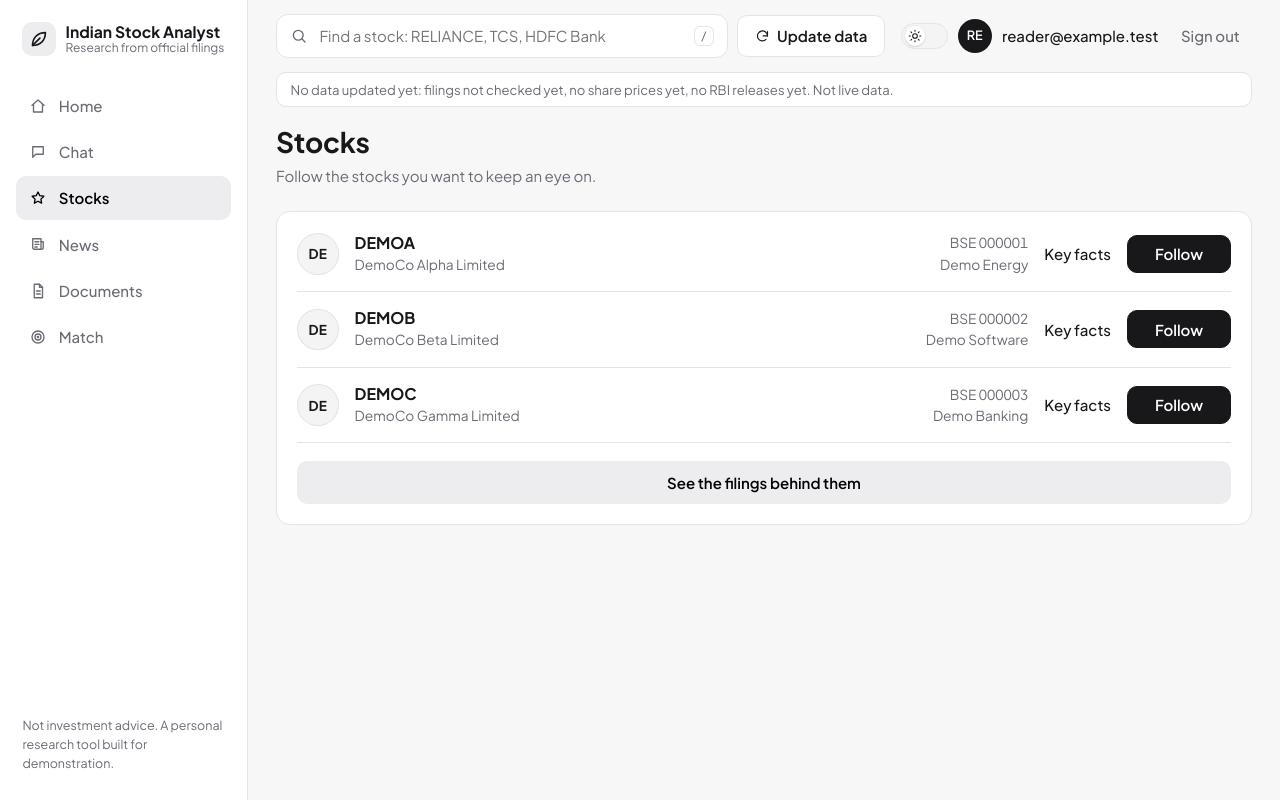
Scenario: following › disables the button while the request is in flight, so a double click sends one PUT
This screenshot has width=1280, height=800.
Click the button with aria-label "Follow DEMOA".
click(1179, 254)  # box [1127,235,1231,273]
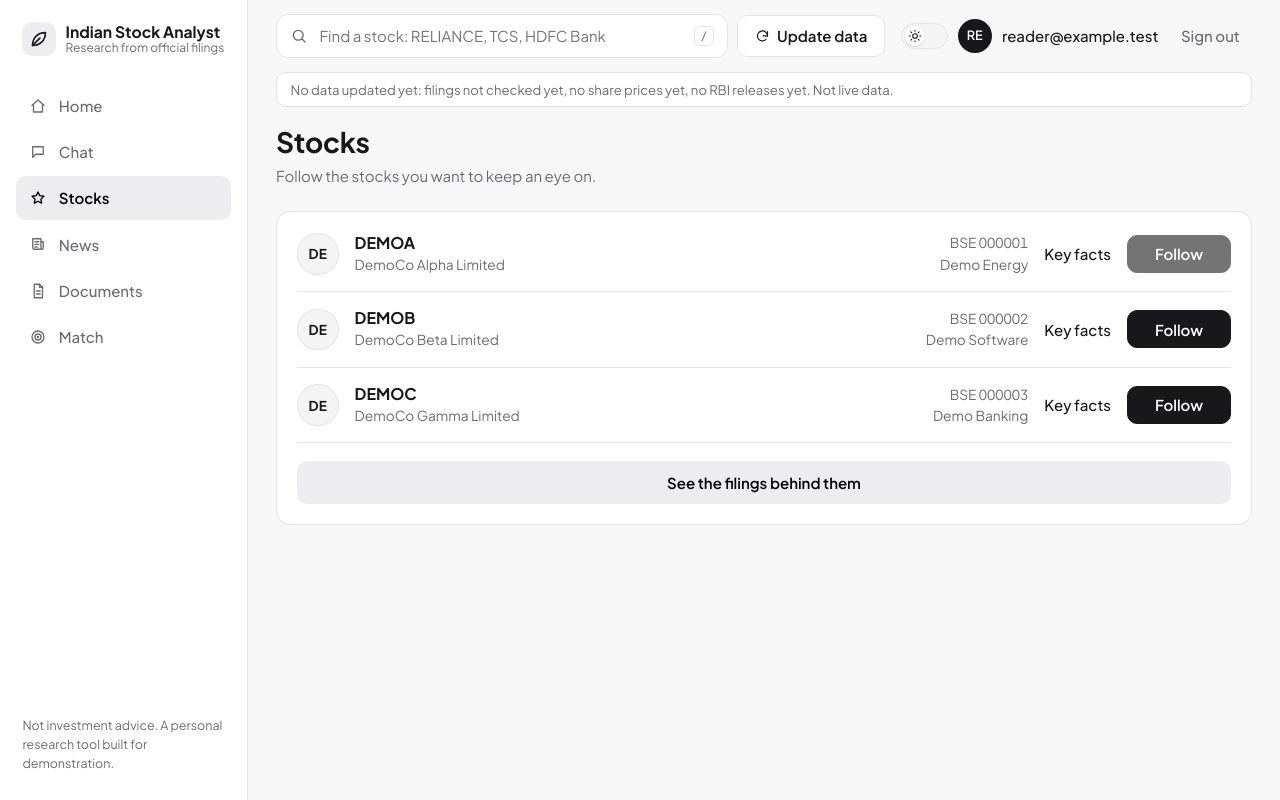
Result: the button with aria-label "Follow DEMOA" is disabled
Click the button with aria-label "Follow DEMOA".
click(1179, 254)  # box [1127,235,1231,273]
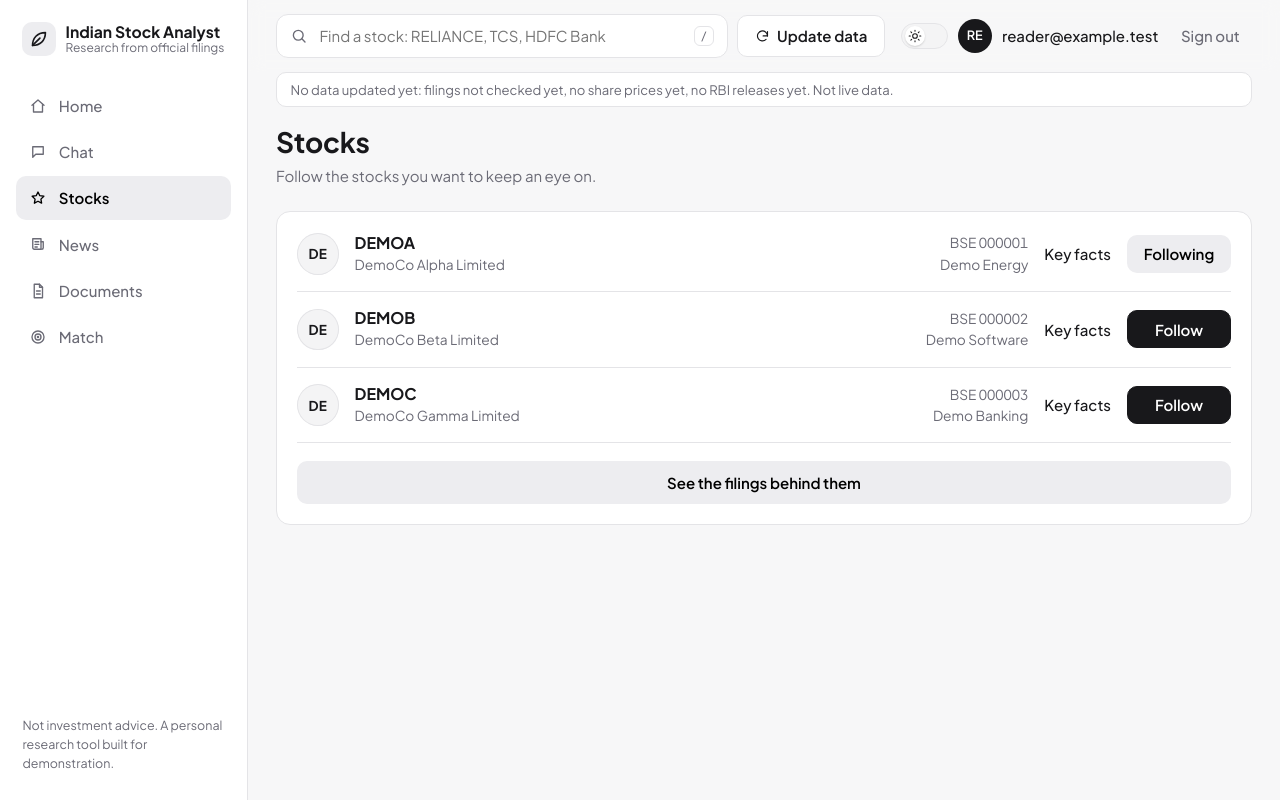
Result: the button with aria-label "Unfollow DEMOA" is enabled at [1127,235,1231,273]
